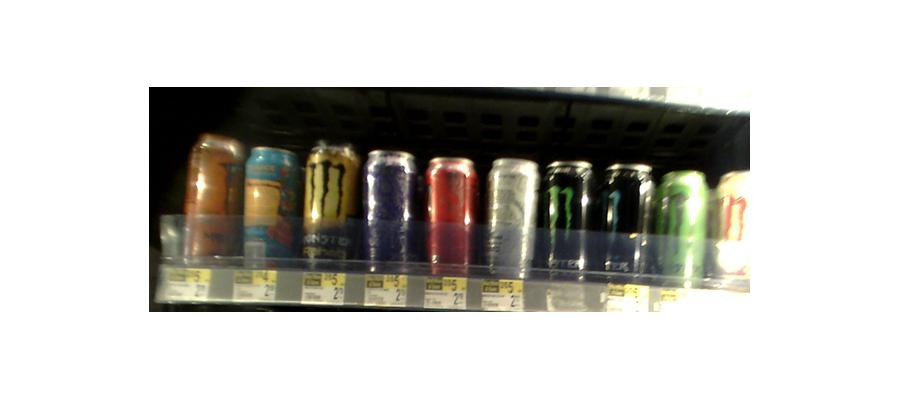bottle: (182, 130, 240, 268), (300, 141, 358, 273), (479, 157, 538, 281), (360, 148, 417, 276), (541, 156, 596, 287), (420, 156, 477, 278), (600, 159, 654, 280), (655, 165, 707, 285), (242, 148, 293, 270), (715, 169, 757, 281)
